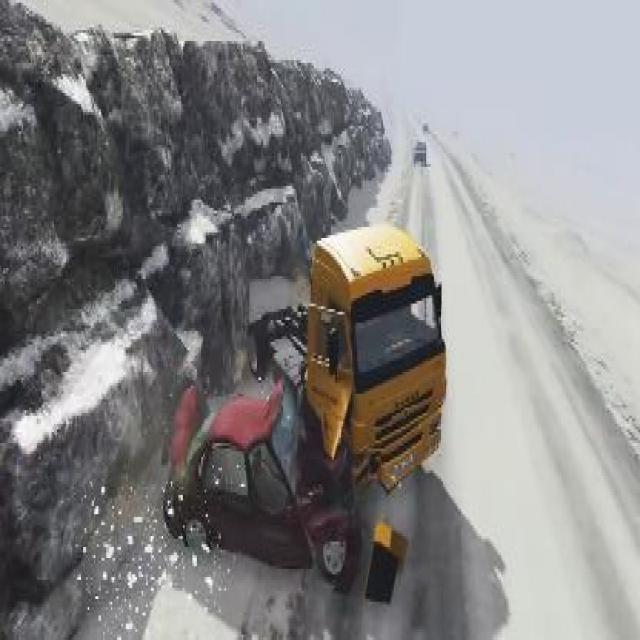accident: (156, 208, 450, 602)
